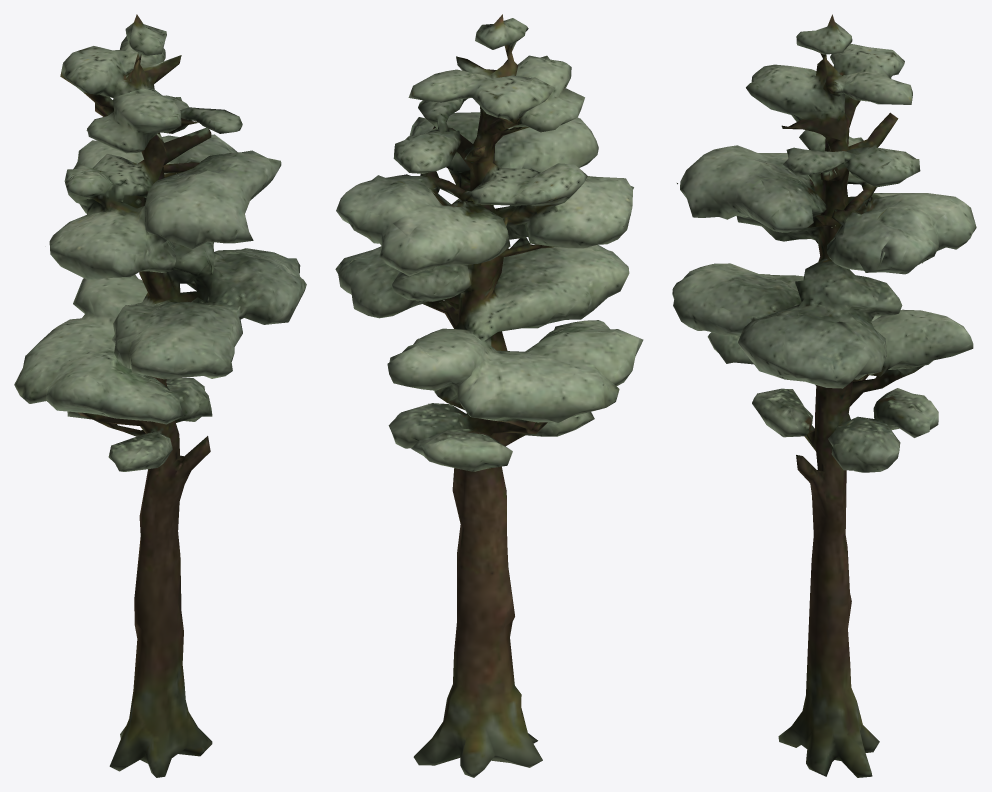
Rendered from tree_tall_a_meshy.glb.
3 renders of one model, left to right at view 1: azimuth 30°, elevation 25°; view 2: azimuth 150°, elevation 25°; view 3: azimuth 270°, elevation 25°, orthographic. The views are drawn at different scales.
Visible parts, largest first — view 1: tree_tall_a_meshy_lod0; view 2: tree_tall_a_meshy_lod0; view 3: tree_tall_a_meshy_lod0.
Boxes of the visible parts, x1,y1,x2,y2 form: tree_tall_a_meshy_lod0: [14, 14, 306, 777]; tree_tall_a_meshy_lod0: [335, 14, 643, 777]; tree_tall_a_meshy_lod0: [672, 14, 976, 777].
Bounding box in the file's own units: 1.99 × 5.14 × 1.93.
Materials: 1 (1 with a texture image).
